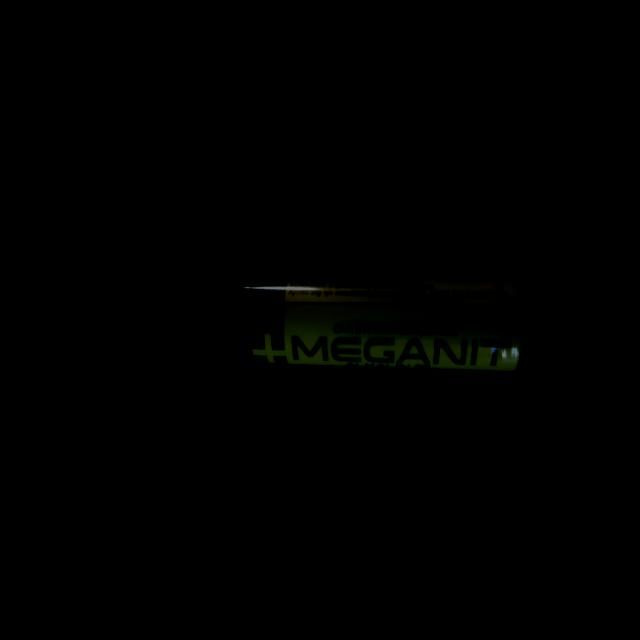AAA: (232, 276, 524, 372)
